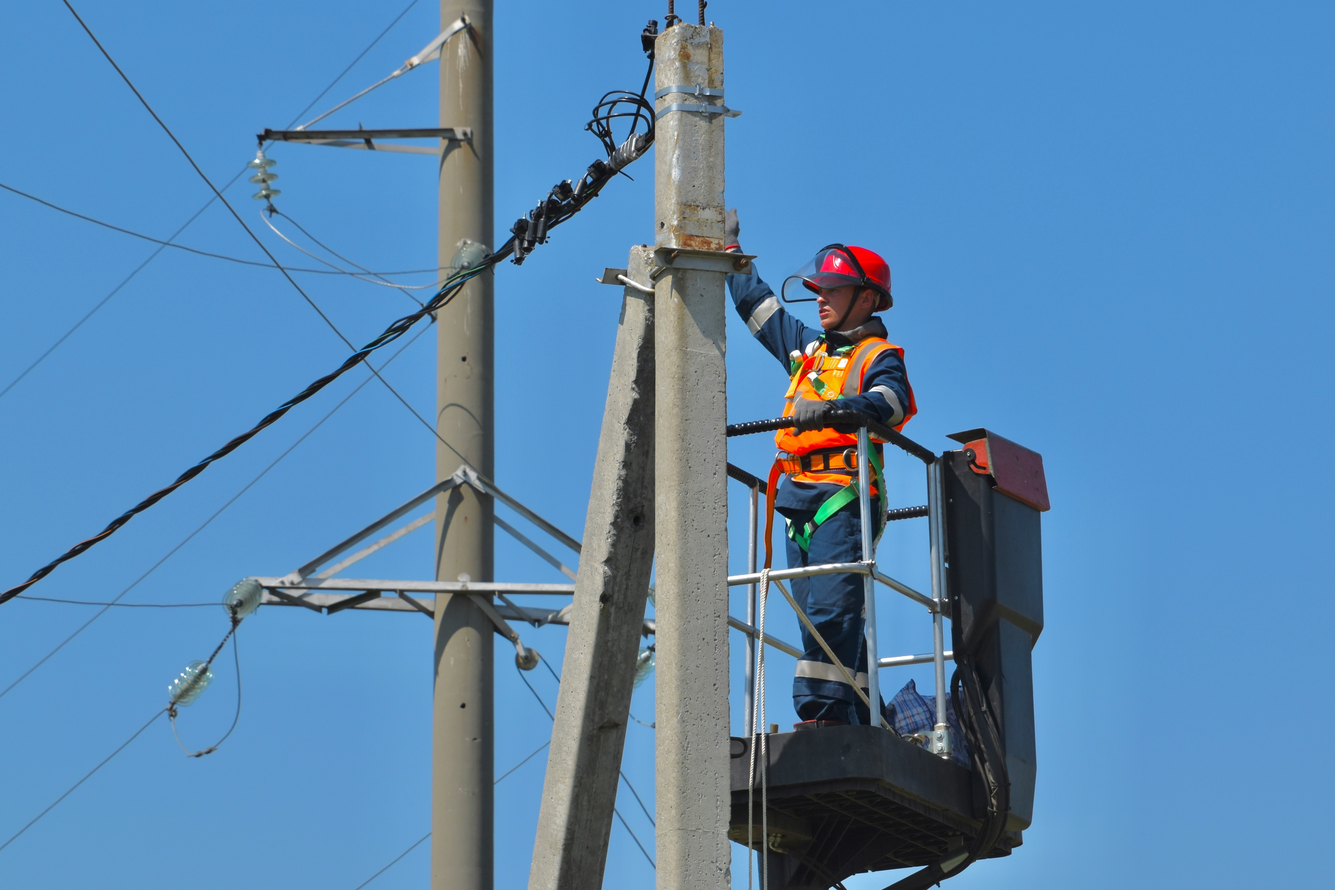insulator: (235, 148, 290, 219), (440, 236, 500, 289), (160, 662, 213, 719)
